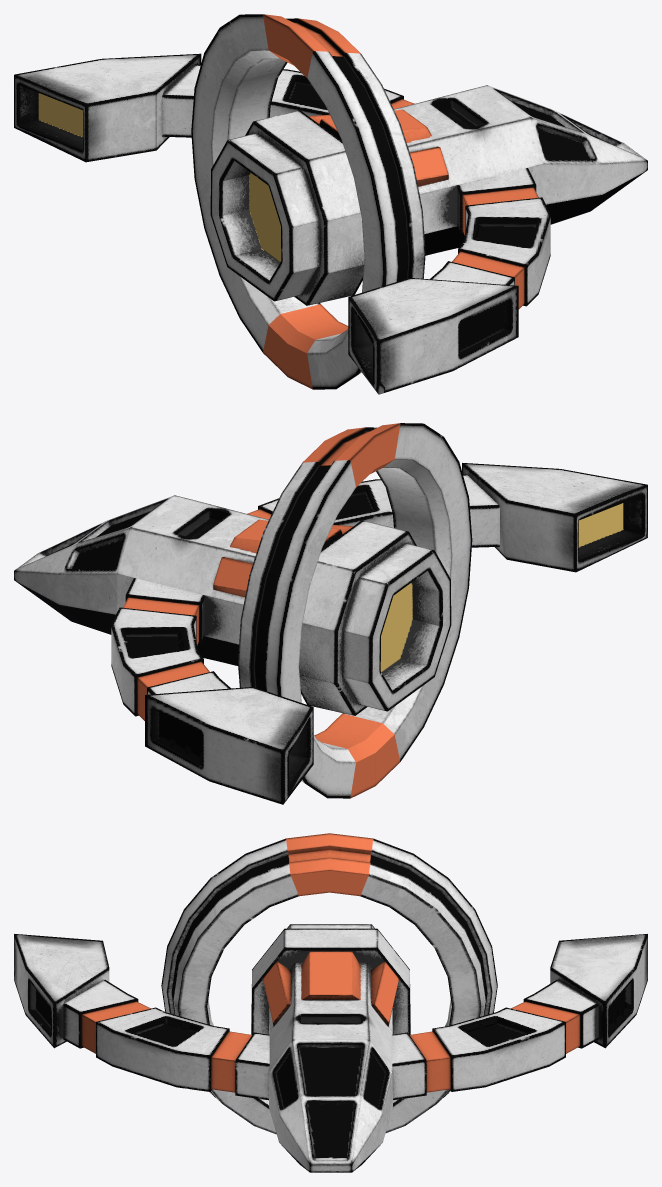
File: CurveShipGen3.fbx
3 renders of one model, top to bottom at view 1: azimuth 30°, elevation 25°; view 2: azimuth 150°, elevation 25°; view 3: azimuth 270°, elevation 25°, orthographic. The views are drawn at different scales.
Parts seen in each view (by area): view 1: Cylinder.016; view 2: Cylinder.016; view 3: Cylinder.016.
Part boxes in pixels (x1,y1,x2,y2): Cylinder.016: (14, 14, 647, 394); Cylinder.016: (14, 423, 647, 804); Cylinder.016: (14, 833, 647, 1172).
Size of the model in its own units: 473 by 360 by 678.
